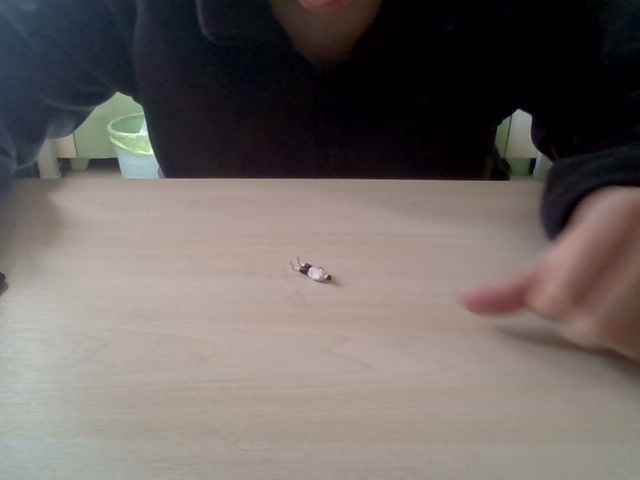fall: (286, 253, 337, 287)
